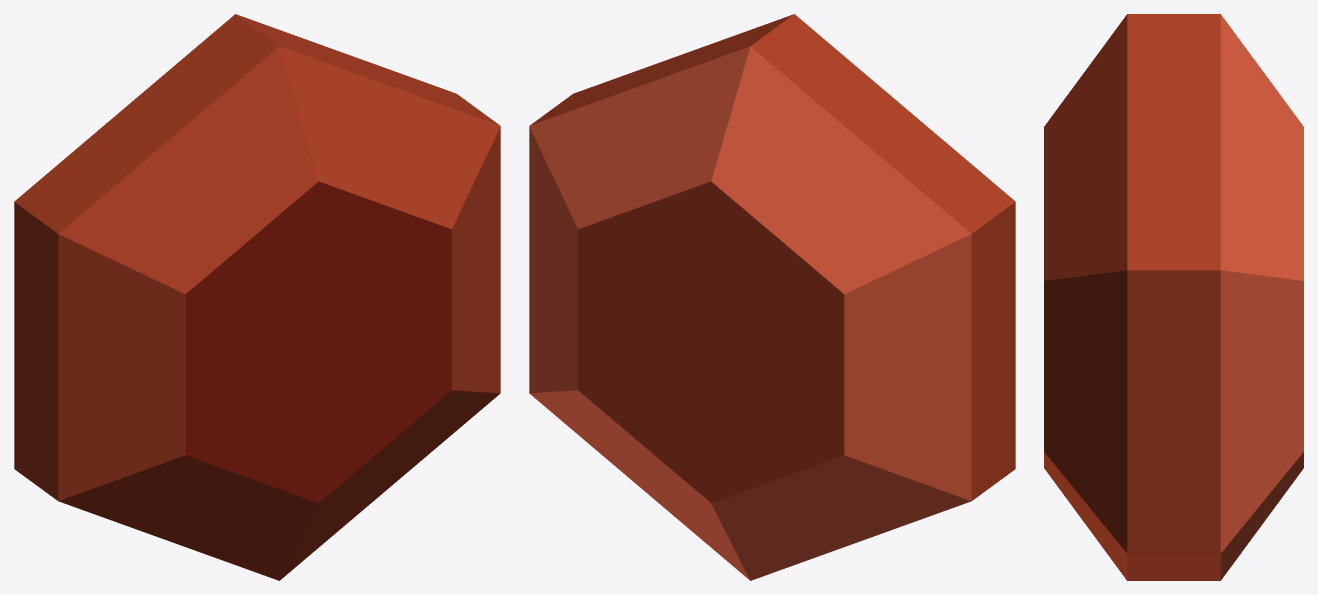
The model's file is ramp-gem-red.glb.
3 renders of one model, left to right at view 1: azimuth 30°, elevation 25°; view 2: azimuth 150°, elevation 25°; view 3: azimuth 270°, elevation 25°, orthographic. The views are drawn at different scales.
Parts seen in each view (by area): view 1: Cylinder; view 2: Cylinder; view 3: Cylinder.
Boxes of the visible parts, x1=… form: Cylinder: x1=14, y1=14, x2=500, y2=580; Cylinder: x1=529, y1=14, x2=1015, y2=580; Cylinder: x1=1044, y1=14, x2=1303, y2=580.
Bounding box in the file's own units: 0.4033 × 0.4657 × 0.1934.
Materials: 1 (1 with a texture image).
